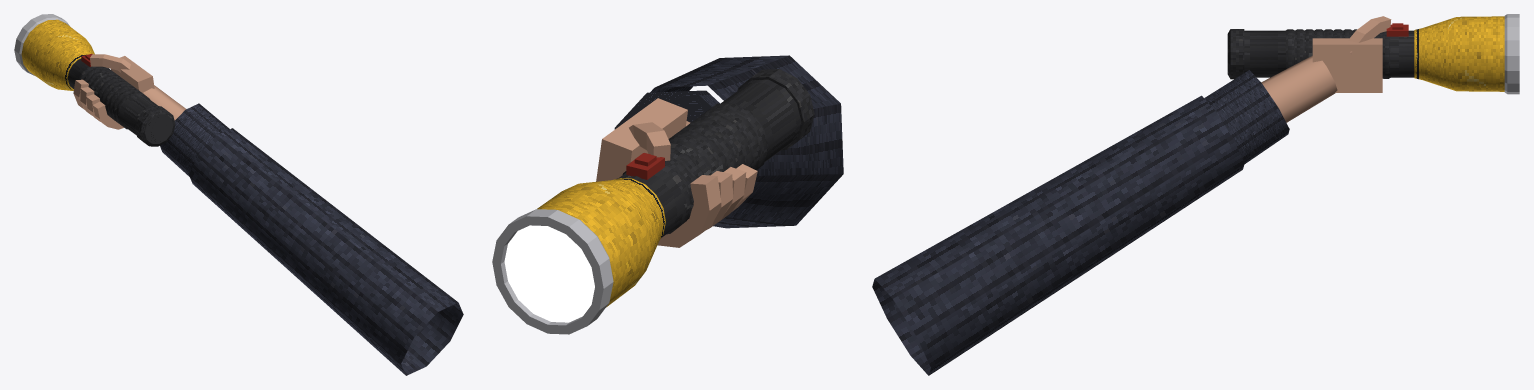
The model's file is flashlight.glb.
The picture shows the model from 3 angles, left to right: view 1: azimuth 30°, elevation 25°; view 2: azimuth 150°, elevation 25°; view 3: azimuth 270°, elevation 25°; orthographic projection. The views are drawn at different scales.
Parts seen in each view (by area): view 1: hand, flashlight; view 2: flashlight, hand; view 3: hand, flashlight.
Boxes of the visible parts, box(x1,y1,x2,y2) form: hand: box(73, 54, 463, 375); flashlight: box(14, 14, 175, 146); flashlight: box(492, 69, 814, 334); hand: box(596, 55, 843, 247); hand: box(872, 16, 1391, 375); flashlight: box(1227, 14, 1519, 94).
Size of the model in its own units: 0.2183 by 0.216 by 0.4724.
Materials: 7 (3 with a texture image).
